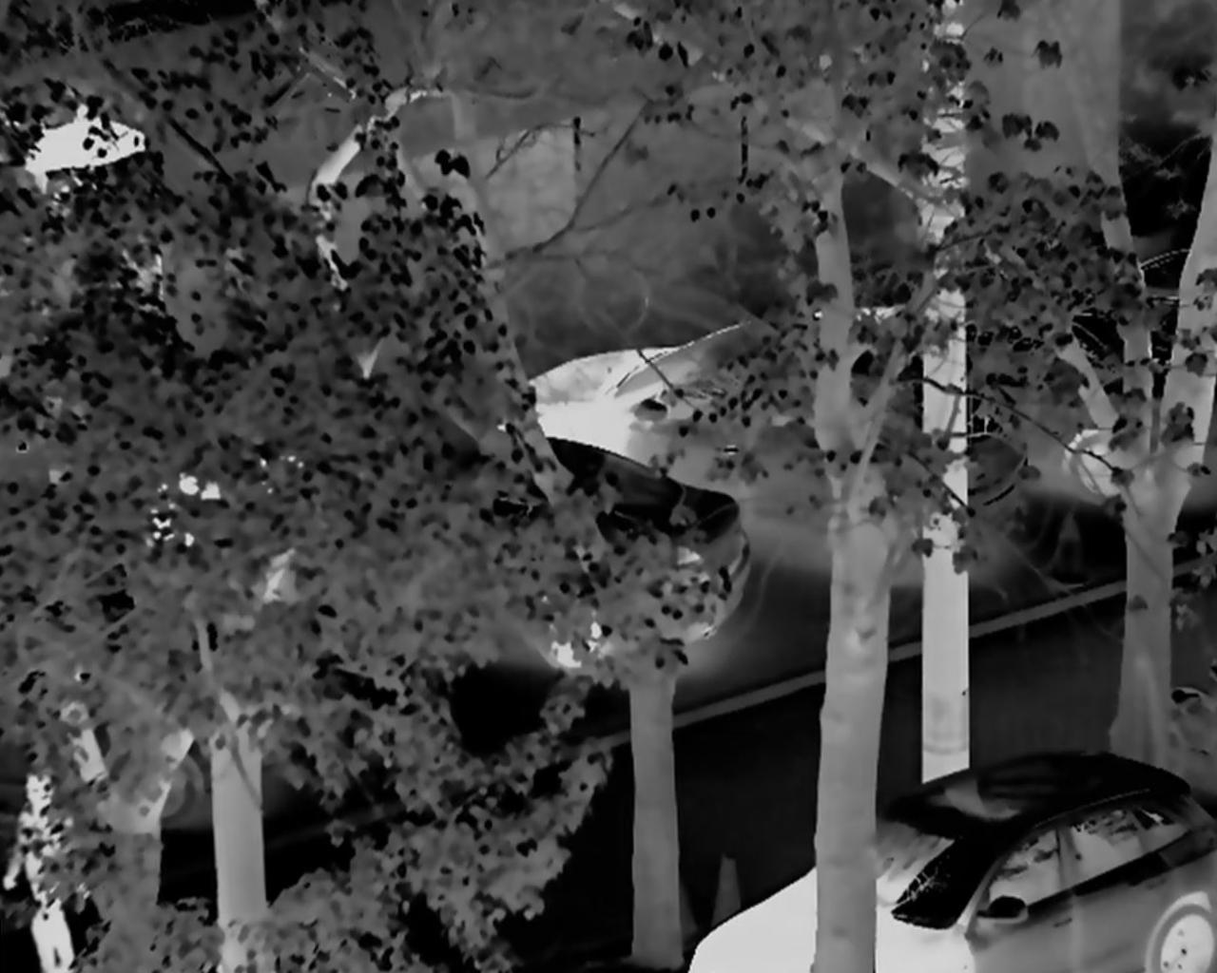person: (6, 760, 95, 973)
